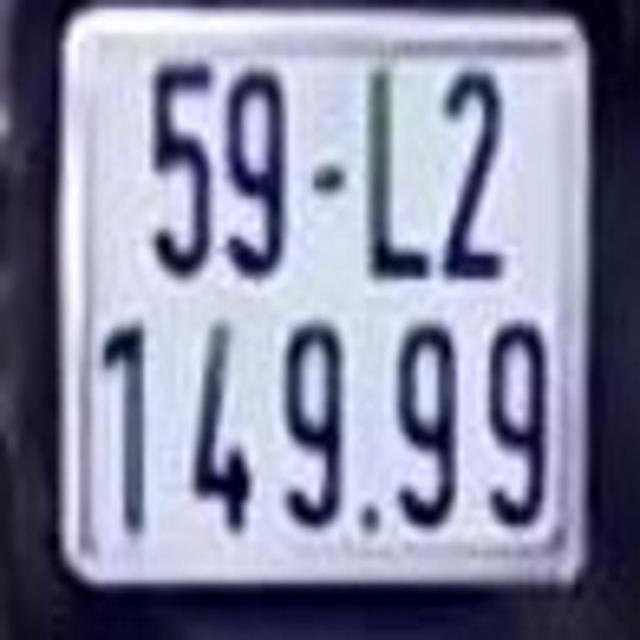1: (101, 313, 150, 536)
2: (442, 63, 509, 283)
4: (190, 309, 254, 530)
5: (149, 59, 212, 279)
9: (220, 59, 290, 280), (389, 319, 462, 530), (278, 315, 349, 528), (484, 316, 550, 524)
L: (348, 58, 434, 280)
